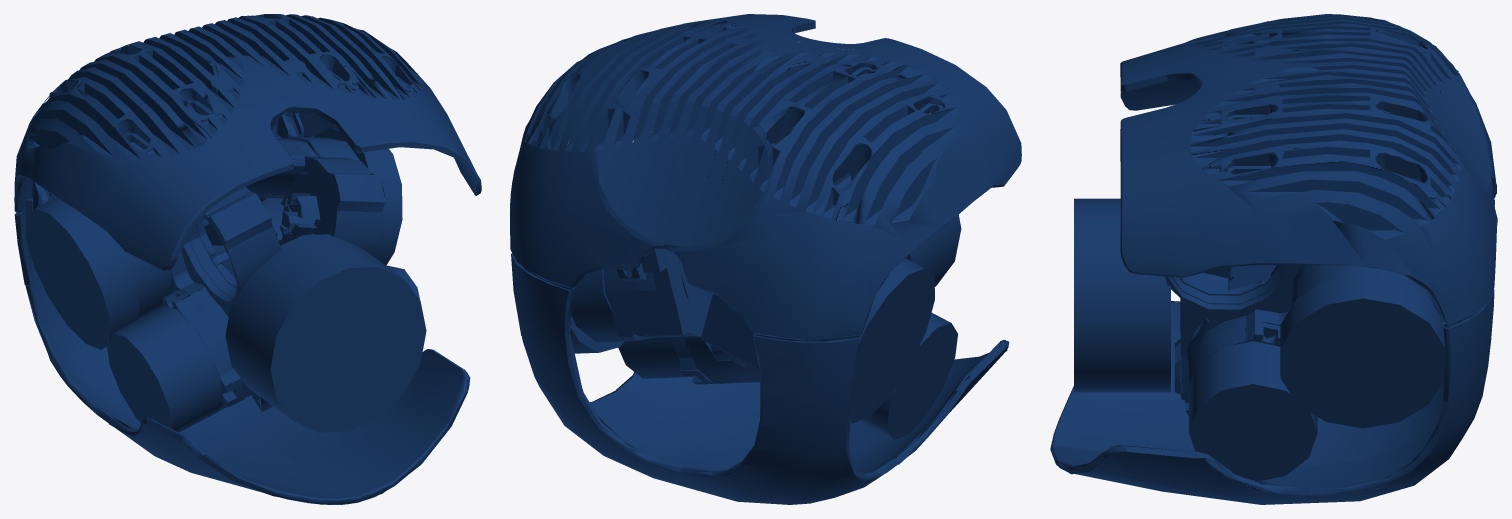
The model's file is icub_chest.dae.
3 views of the same model, side by side, from view 1: azimuth 30°, elevation 25°; view 2: azimuth 150°, elevation 25°; view 3: azimuth 270°, elevation 25° (orthographic). The views are drawn at different scales.
Visible parts, largest first — view 1: torso_mesh, chest_cylinder_mesh; view 2: torso_mesh, chest_cylinder_mesh; view 3: torso_mesh, chest_cylinder_mesh.
Boxes of the visible parts, <box> form: torso_mesh: <box>14,14,481,504</box>; chest_cylinder_mesh: <box>225,234,426,432</box>; torso_mesh: <box>510,14,1021,504</box>; chest_cylinder_mesh: <box>905,214,961,286</box>; torso_mesh: <box>1050,14,1497,504</box>; chest_cylinder_mesh: <box>1074,198,1170,392</box>.
Size of the model in its own units: 0.19 by 0.1868 by 0.1847.
